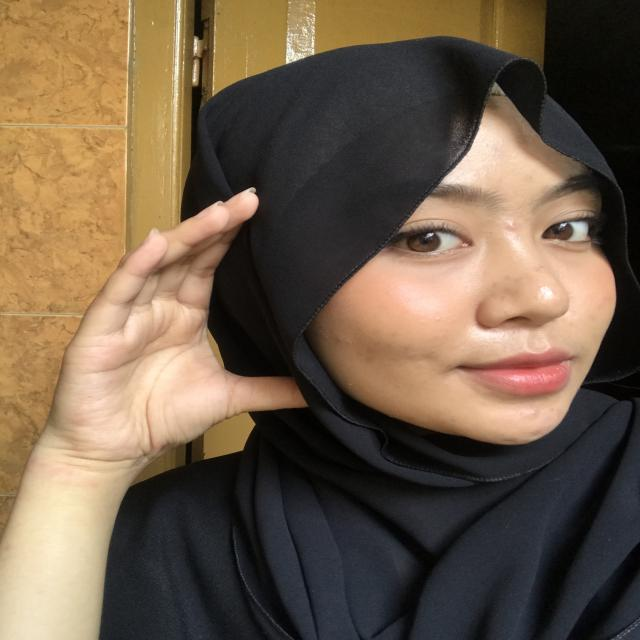mendengar: (63, 186, 309, 474)
